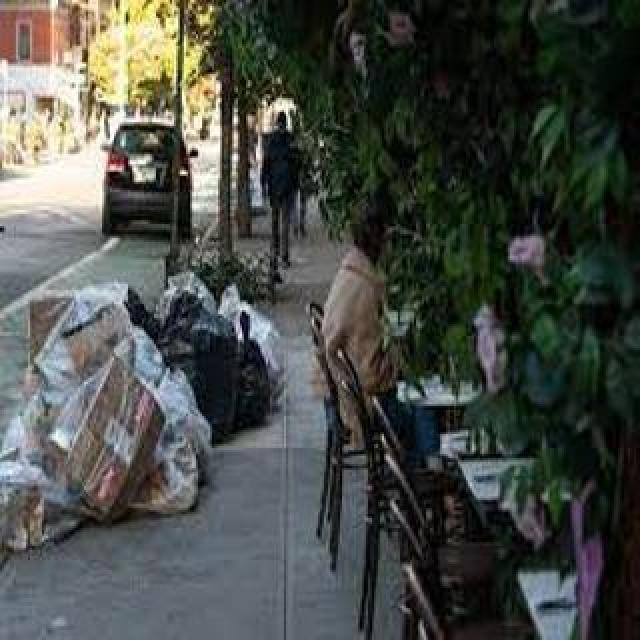high trash: (0, 272, 282, 550)
